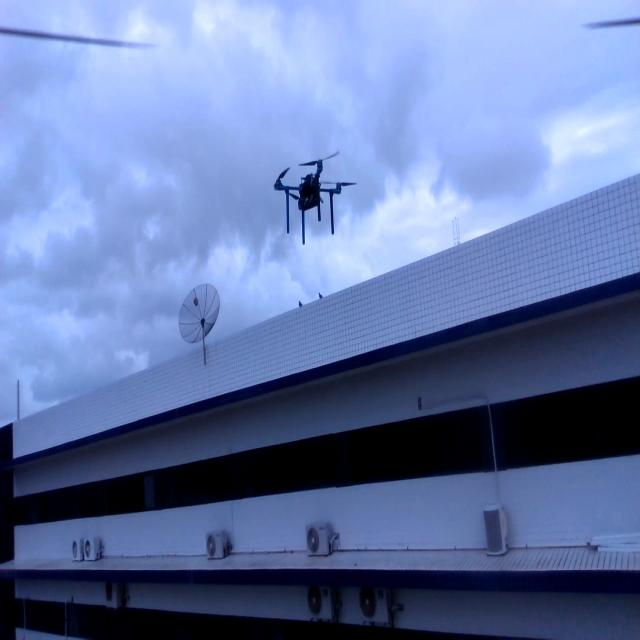-uav-: (268, 143, 359, 245)
